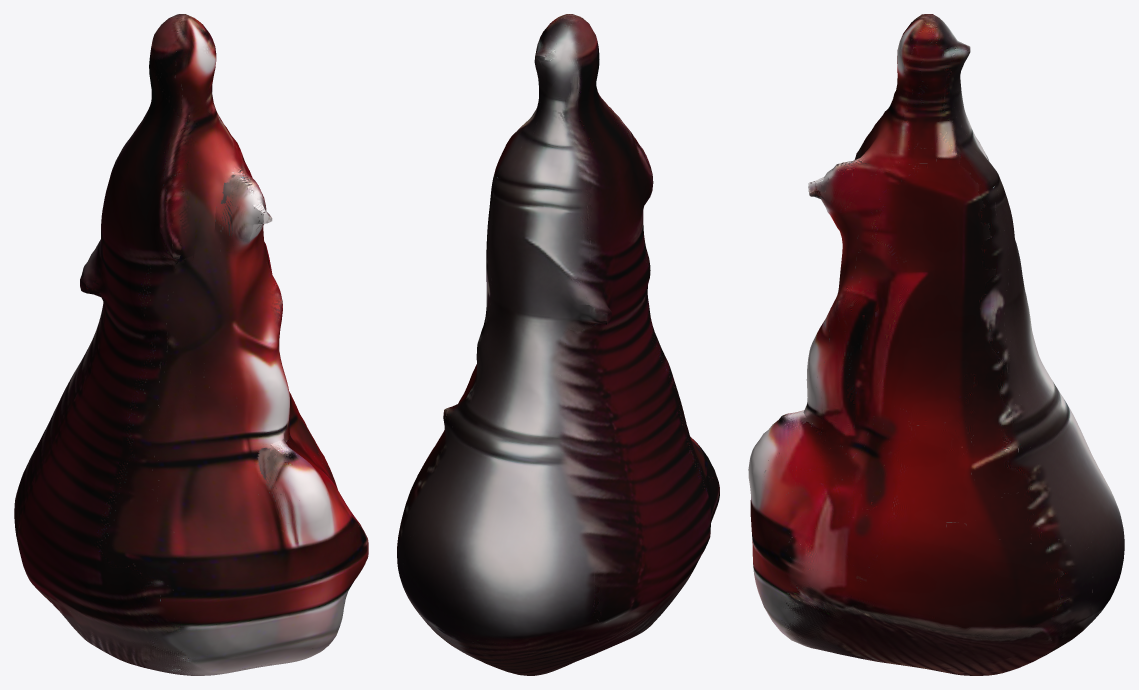
File: AssassinModel1.fbx
3 views of the same model, side by side, from view 1: azimuth 30°, elevation 25°; view 2: azimuth 150°, elevation 25°; view 3: azimuth 270°, elevation 25° (orthographic). The views are drawn at different scales.
Parts seen in each view (by area): view 1: Description: The obj-re_2hKeQXM1vHOB2ETfO6RG5YJxuLN; view 2: Description: The obj-re_2hKeQXM1vHOB2ETfO6RG5YJxuLN; view 3: Description: The obj-re_2hKeQXM1vHOB2ETfO6RG5YJxuLN.
Boxes of the visible parts, x1=… form: Description: The obj-re_2hKeQXM1vHOB2ETfO6RG5YJxuLN: x1=14, y1=14, x2=368, y2=675; Description: The obj-re_2hKeQXM1vHOB2ETfO6RG5YJxuLN: x1=397, y1=14, x2=719, y2=675; Description: The obj-re_2hKeQXM1vHOB2ETfO6RG5YJxuLN: x1=748, y1=14, x2=1124, y2=675.
Bounding box in the file's own units: 27.41 × 65.47 × 34.38.
1 material, 1 textured.
